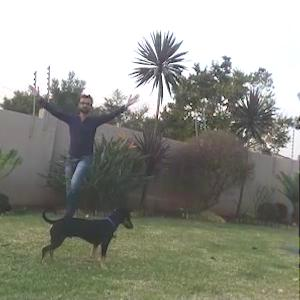takeoff: (46, 90, 155, 216)
